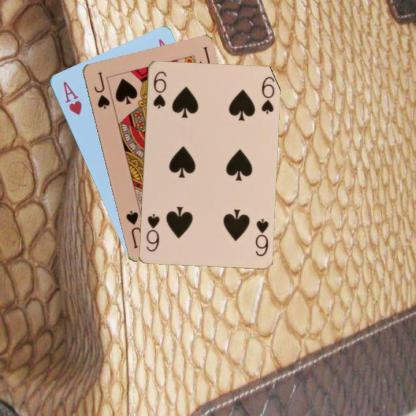6s: (150, 68, 168, 110), (252, 216, 270, 257)
Ah: (60, 78, 83, 116)
Js: (91, 69, 111, 110)
